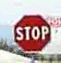stop: (13, 13, 51, 52)
